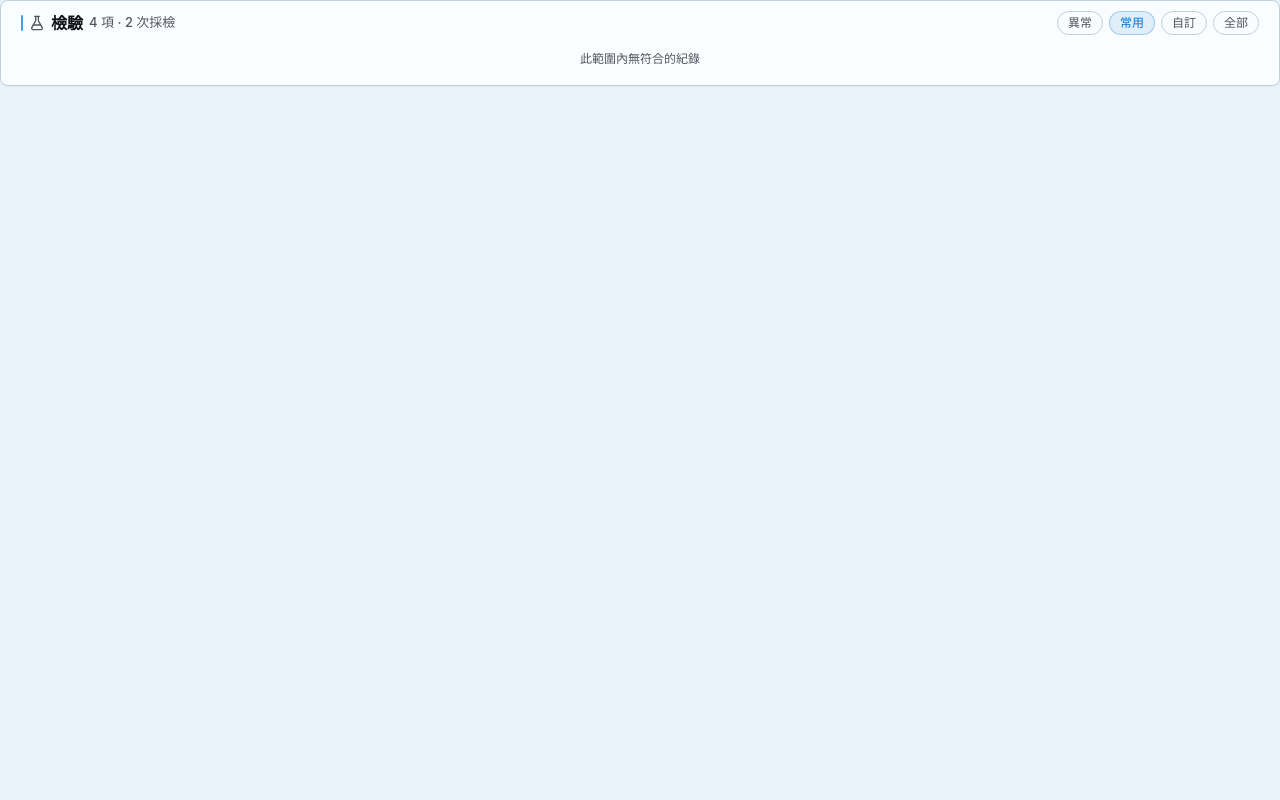
Test case: OverviewLabsSection — 自訂 › offers to choose pins when there are none yet
The width and height of the screenshot is (1280, 800).
Click the button "自訂" at (1184, 23), box [1161,11,1207,35]
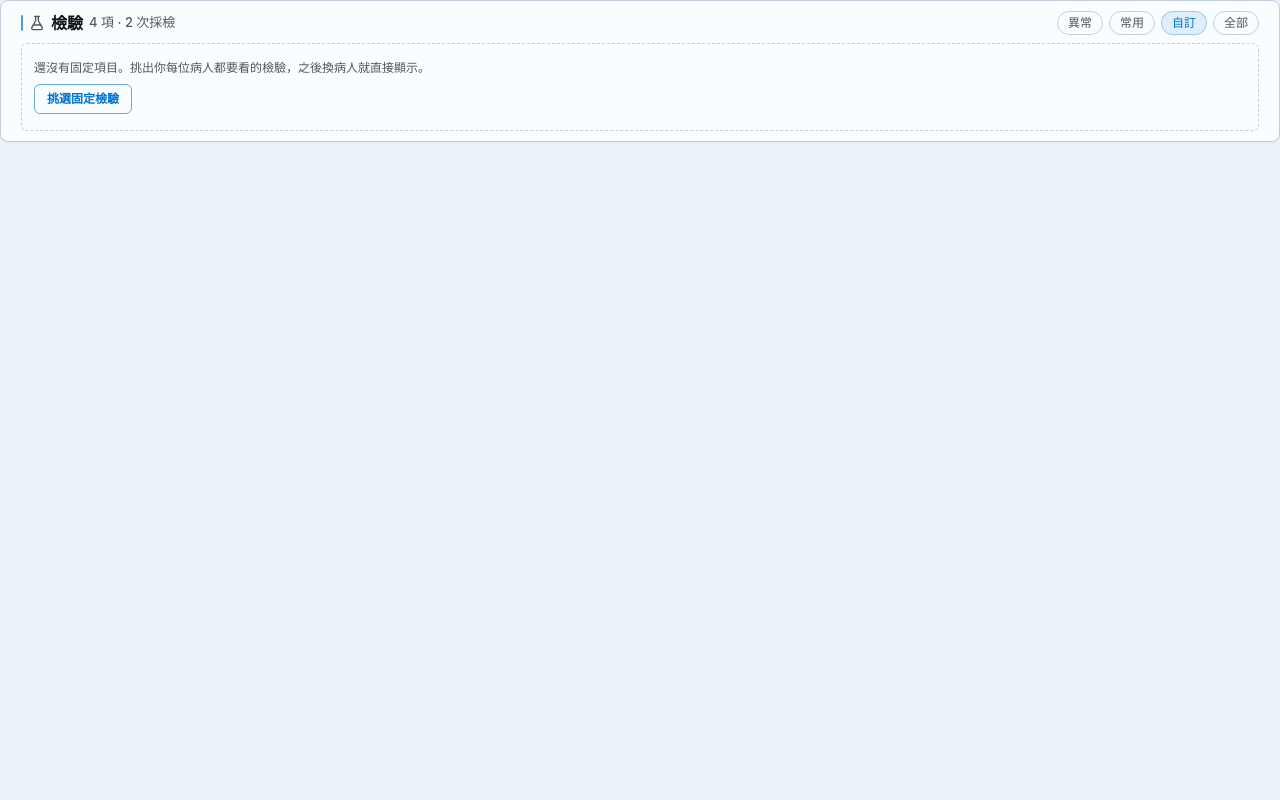
Expected: the text "還沒有固定項目。挑出你每位病人都要看的檢驗，之後換病人就直接顯示。" is shown, [34,60,430,76]
Click the button "挑選固定檢驗" at (83, 99), box [34,84,132,114]
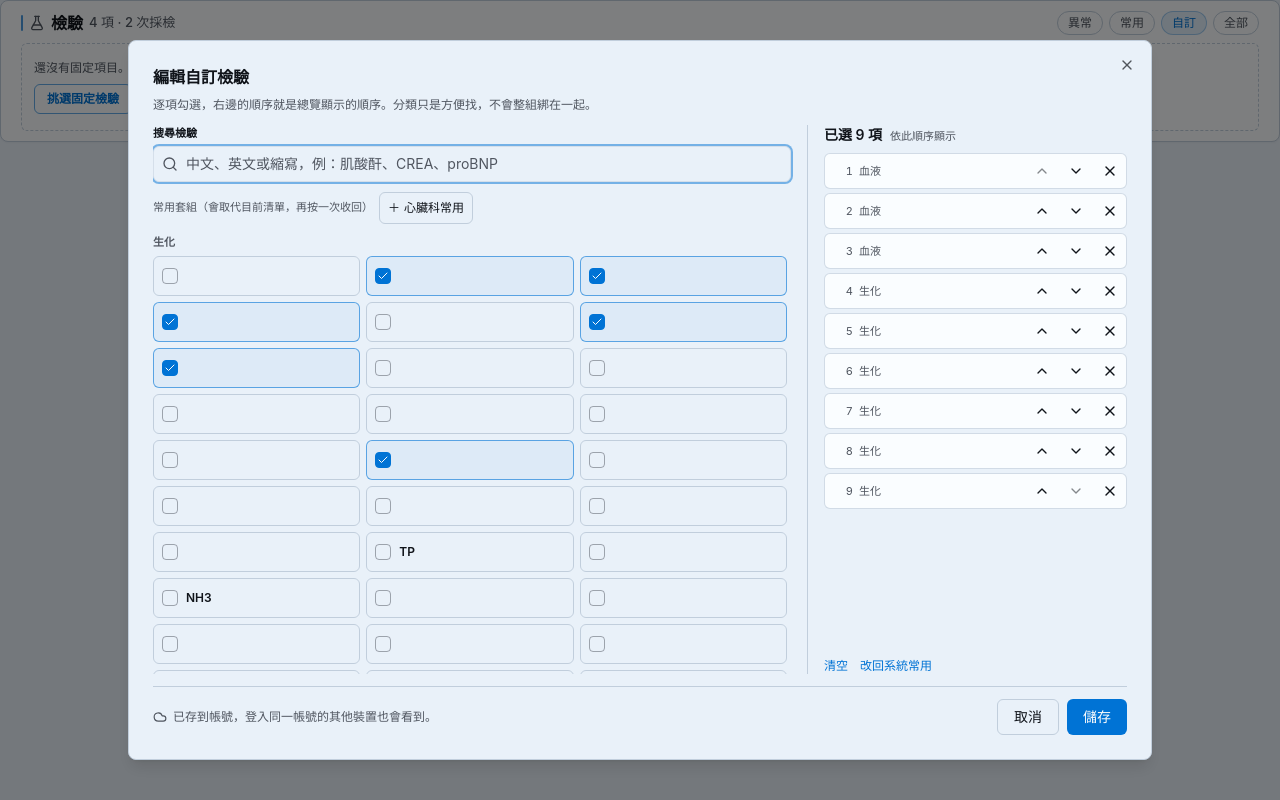
Expected: the dialog is shown
